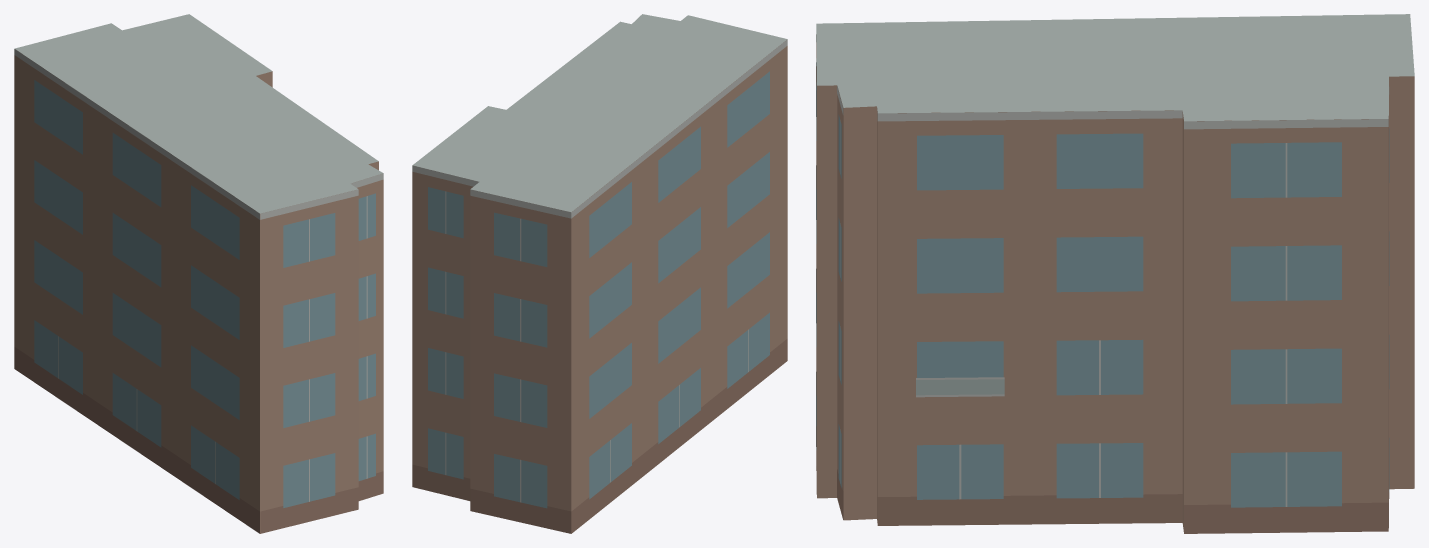
Rendered from survey-upis-32945660.glb.
3 renders of one model, left to right at view 1: azimuth 30°, elevation 25°; view 2: azimuth 150°, elevation 25°; view 3: azimuth 270°, elevation 25°, orthographic. The views are drawn at different scales.
Visible parts, largest first — view 1: survey-upis-32945660.tmp; view 2: survey-upis-32945660.tmp; view 3: survey-upis-32945660.tmp.
Part boxes in pixels (x1,y1,x2,y2): survey-upis-32945660.tmp: (14,14,383,533); survey-upis-32945660.tmp: (412,14,787,533); survey-upis-32945660.tmp: (816,14,1414,533).
Bounding box in the file's own units: 6.92 × 12.4 × 16.32.
